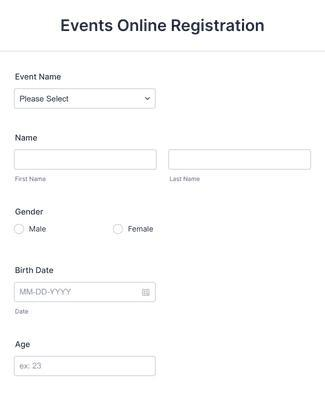dropdown: (14, 88, 158, 110)
input: (14, 355, 159, 379), (14, 149, 159, 172), (169, 149, 313, 172), (16, 281, 157, 304)
label: (60, 18, 266, 34), (15, 267, 56, 277), (16, 74, 63, 82), (15, 209, 45, 217), (128, 226, 155, 234), (15, 135, 40, 143), (15, 341, 34, 351), (29, 226, 47, 234)
radio: (15, 225, 26, 236), (114, 225, 124, 235)
